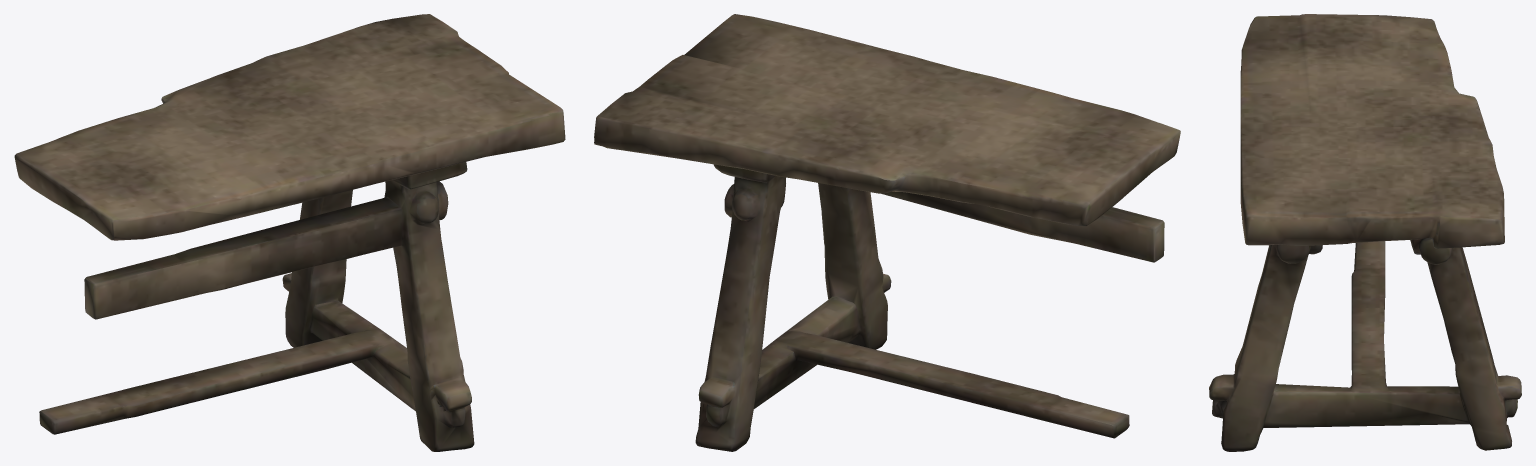
File: ancient-wood-banquet-table-v001.glb
3 views of the same model, side by side, from view 1: azimuth 30°, elevation 25°; view 2: azimuth 150°, elevation 25°; view 3: azimuth 270°, elevation 25° (orthographic). The views are drawn at different scales.
Visible parts, largest first — view 1: ancient-wood-banquet-table; view 2: ancient-wood-banquet-table; view 3: ancient-wood-banquet-table.
Part boxes in pixels (<box>): ancient-wood-banquet-table: <box>14,14,565,451</box>; ancient-wood-banquet-table: <box>594,14,1180,451</box>; ancient-wood-banquet-table: <box>1209,14,1521,451</box>.
Size of the model in its own units: 1.29 by 0.8287 by 0.8269.
1 material, 1 textured.
